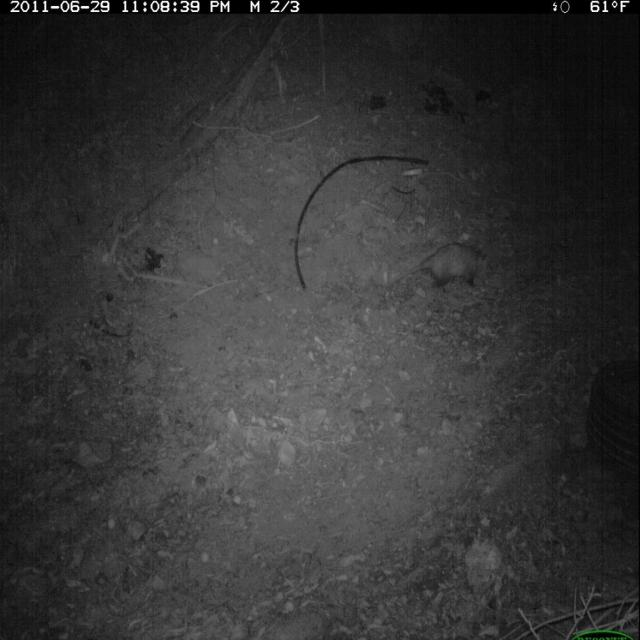opossum: (402, 237, 503, 300)
